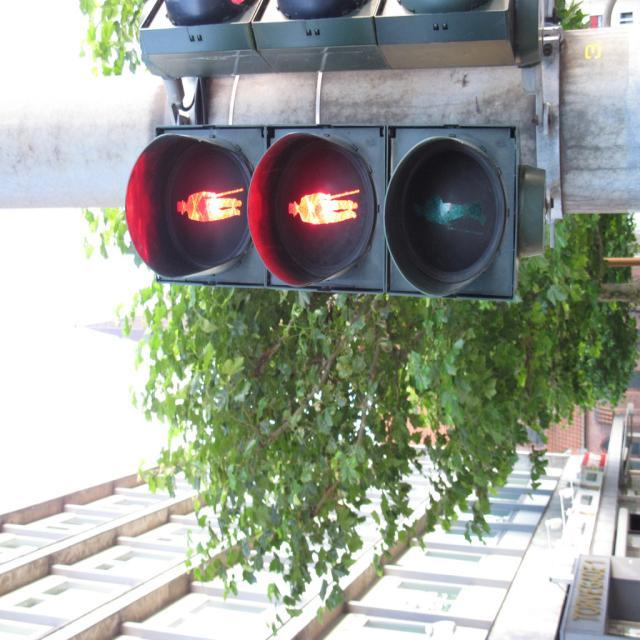off traffic light: (140, 0, 543, 82)
traffic light: (123, 122, 518, 302)
